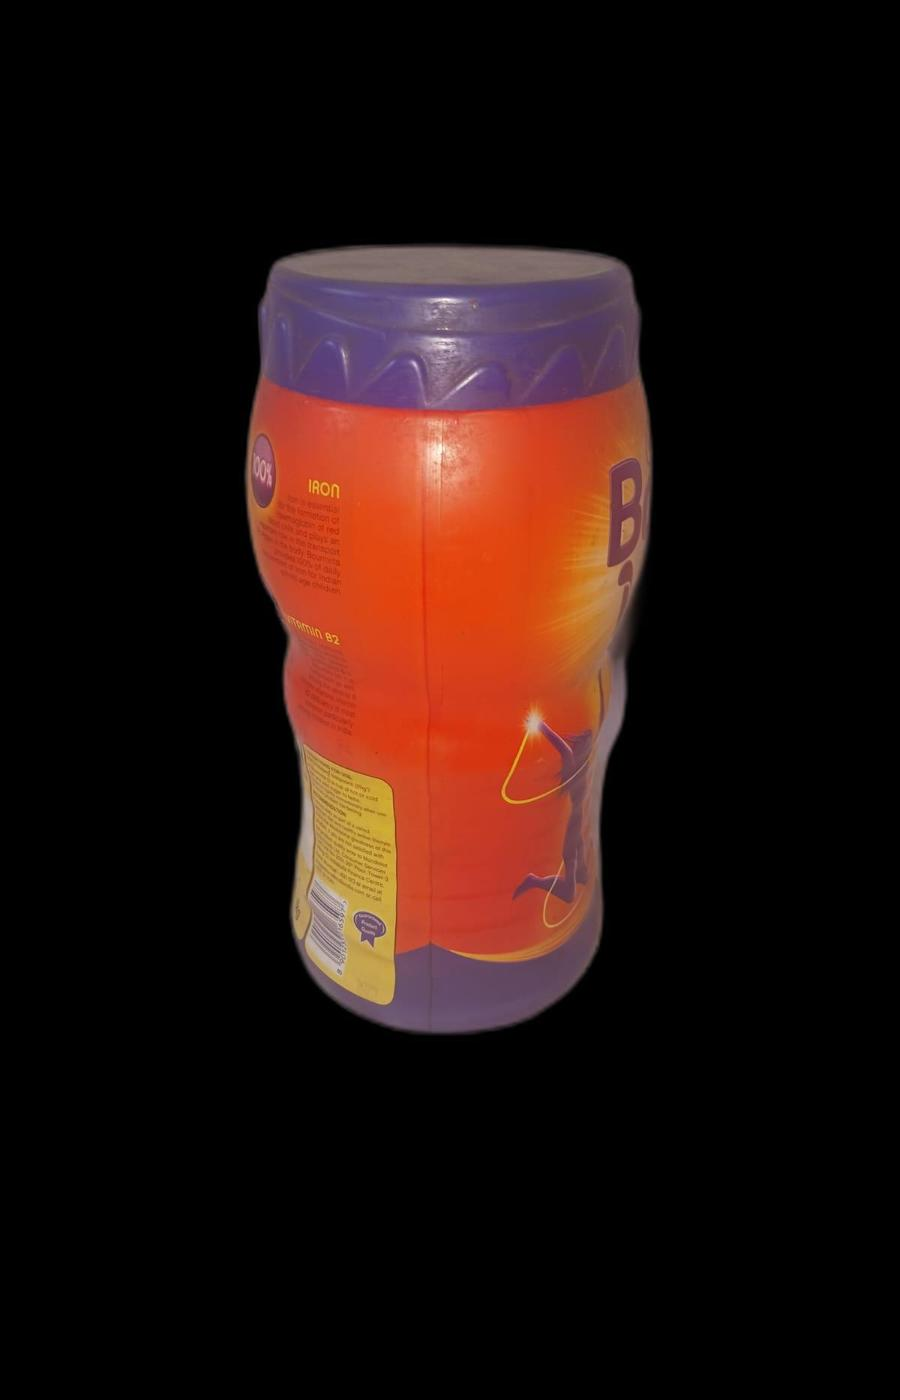Cadbury Bournvita Chocolate Health Drink-1kg-: (240, 235, 650, 1035)
